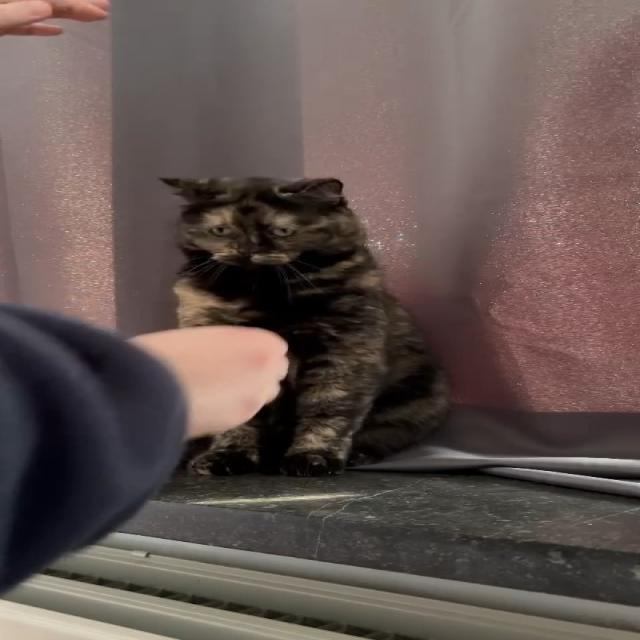authorized: (157, 174, 452, 477)
